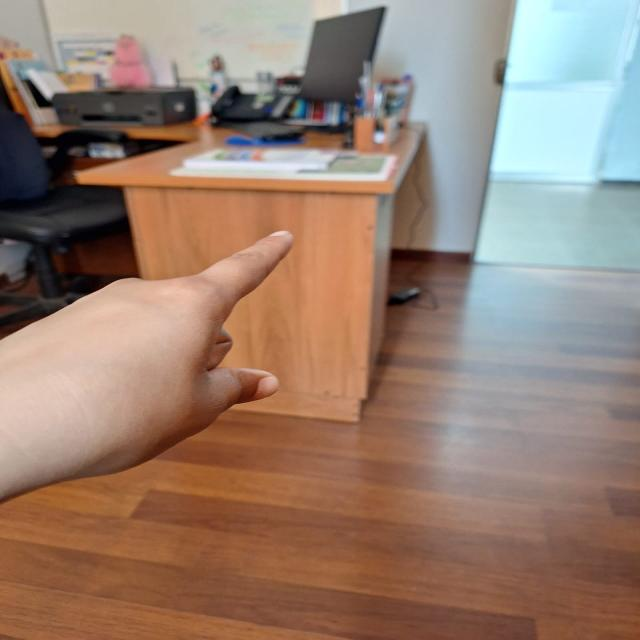S: (0, 218, 323, 503)
